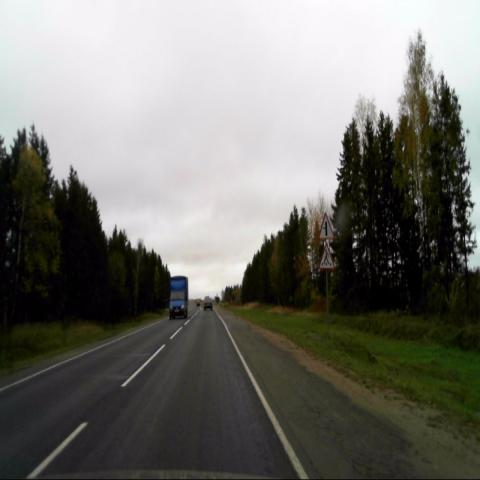2_3_3: (317, 208, 336, 241)
